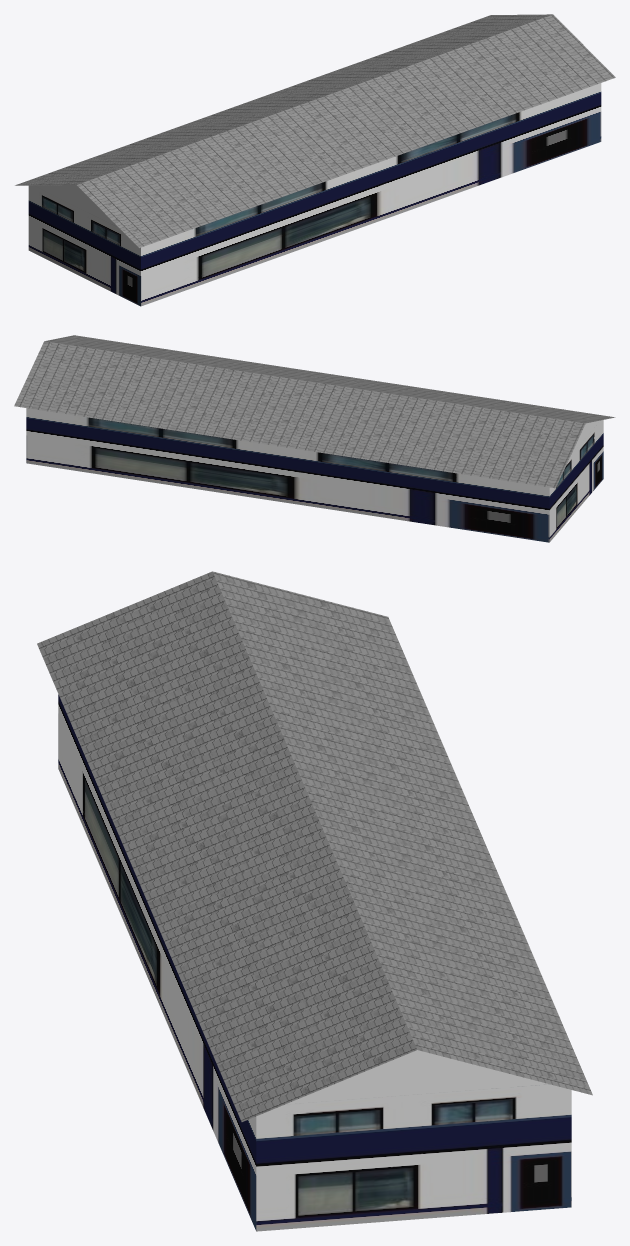
The picture shows the model from 3 angles, top to bottom: view 1: azimuth 30°, elevation 25°; view 2: azimuth 150°, elevation 25°; view 3: azimuth 270°, elevation 25°; orthographic projection. The views are drawn at different scales.
Parts seen in each view (by area): view 1: CityEngineMaterial_4_m, CityEngineMaterial_2_m, CityEngineMaterial_3_m; view 2: CityEngineMaterial_4_m, CityEngineMaterial_2_m; view 3: CityEngineMaterial_4_m, CityEngineMaterial_2_m, CityEngineMaterial_3_m.
Boxes of the visible parts, x1=… form: CityEngineMaterial_4_m: x1=15, y1=14, x2=615, y2=247; CityEngineMaterial_2_m: x1=28, y1=83, x2=601, y2=306; CityEngineMaterial_3_m: x1=34, y1=185, x2=118, y2=227; CityEngineMaterial_4_m: x1=14, y1=335, x2=615, y2=488; CityEngineMaterial_2_m: x1=26, y1=408, x2=603, y2=542; CityEngineMaterial_4_m: x1=37, y1=571, x2=592, y2=1121; CityEngineMaterial_2_m: x1=58, y1=694, x2=571, y2=1231; CityEngineMaterial_3_m: x1=285, y1=1050, x2=548, y2=1104.
Bounding box in the file's own units: 61.12 × 10.02 × 28.42.
